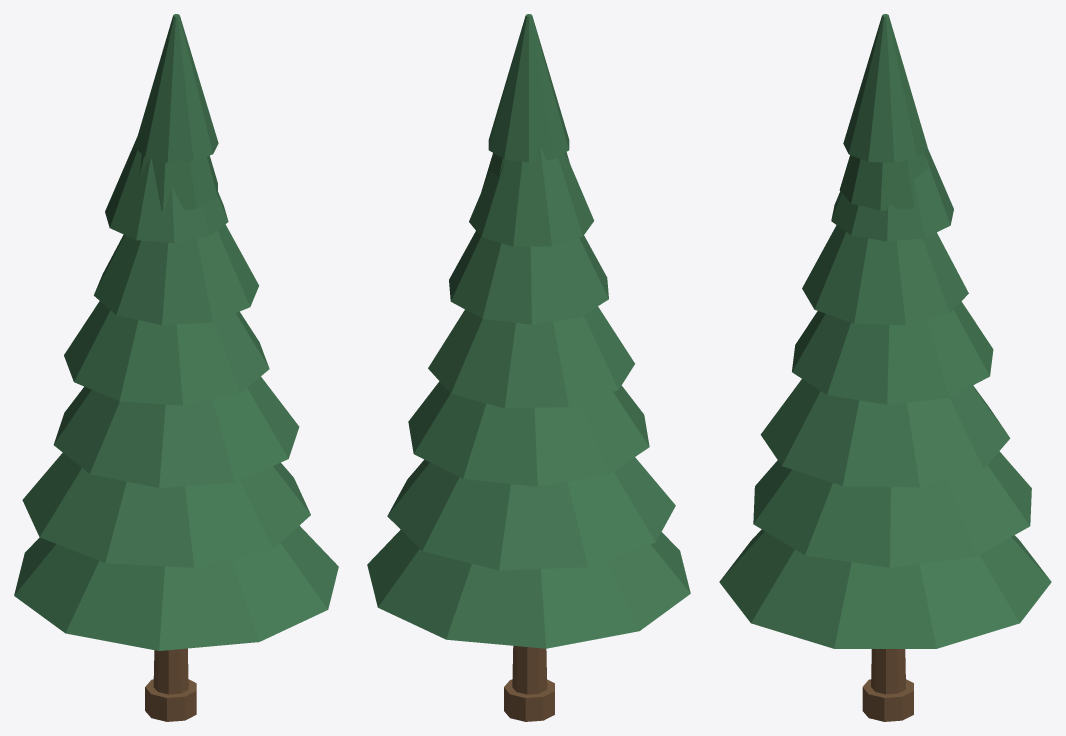
The model's file is pine_tree_small.glb.
The picture shows the model from 3 angles, left to right: view 1: azimuth 30°, elevation 25°; view 2: azimuth 150°, elevation 25°; view 3: azimuth 270°, elevation 25°; orthographic projection.
Parts seen in each view (by area): view 1: pine_tree_small; view 2: pine_tree_small; view 3: pine_tree_small.
Boxes of the visible parts, x1,y1,x2,y2 form: pine_tree_small: (14,14,338,721); pine_tree_small: (367,14,690,721); pine_tree_small: (719,14,1051,721).
Size of the model in its own units: 2.22 by 5.39 by 2.33.
